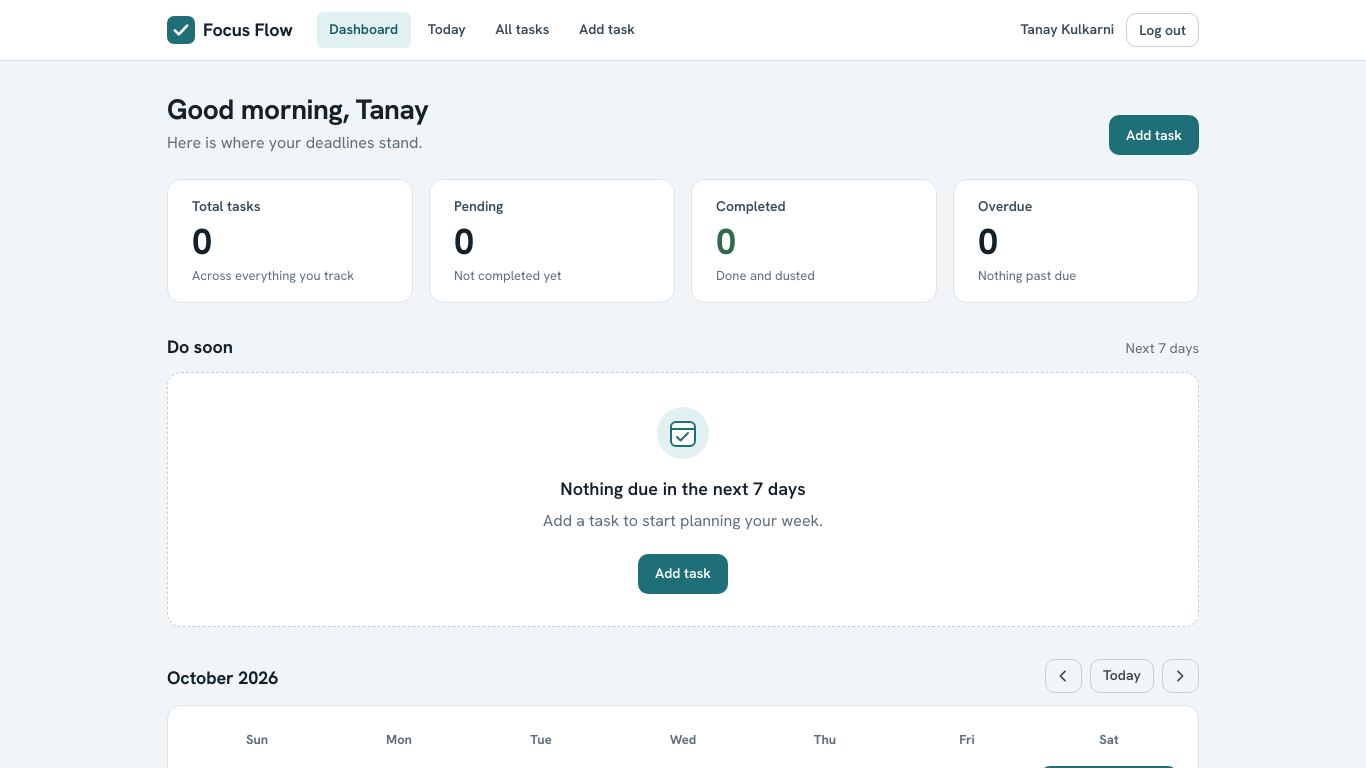
Test: routing and auth › logs out from the navbar and returns to login
Click the button "Log out": (1163, 30) top-left (1126, 13), bottom-right (1199, 47)
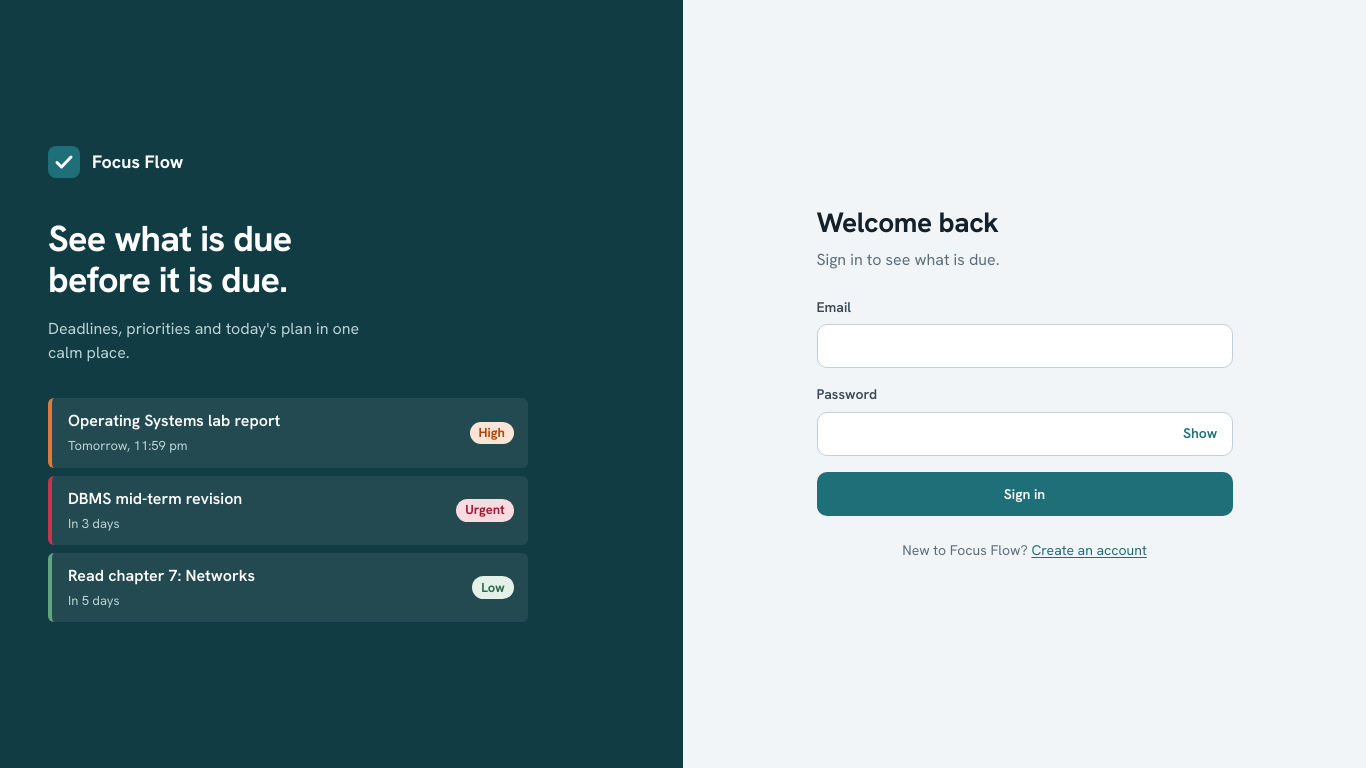
Expected: the heading "Welcome back" is shown, top-left (816, 204), bottom-right (999, 240)
